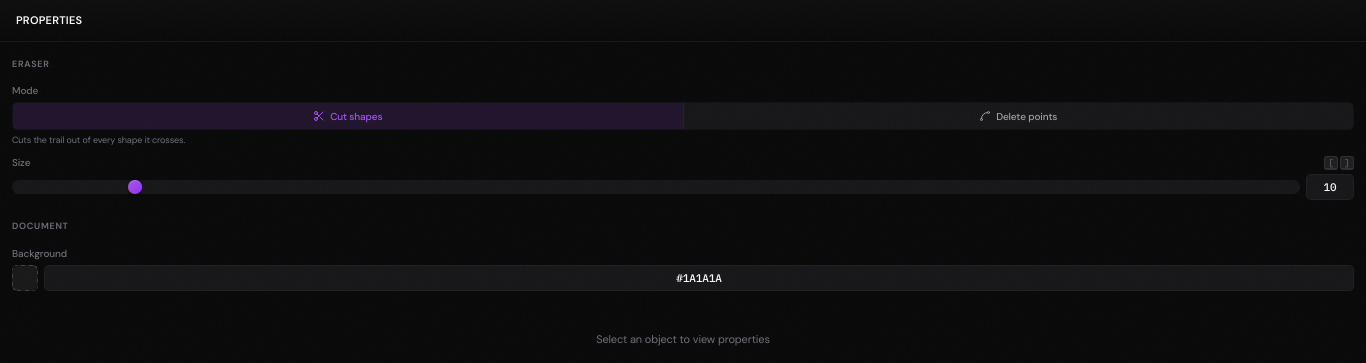
Scenario: Brush and Eraser settings › choose what the Eraser does, saying so
Expected: the button with test id "eraser-mode-stroke" reads "Cut shapes", [13,103,684,129]
Expected: the text with test id "eraser-mode-note" shows "Cuts the trail out", [12,134,185,146]
What coordinates should you click on to do the following:
click the button with test id "eraser-mode-point"
I would click on:
 (1018, 116)
Its box is [684,103,1353,129].
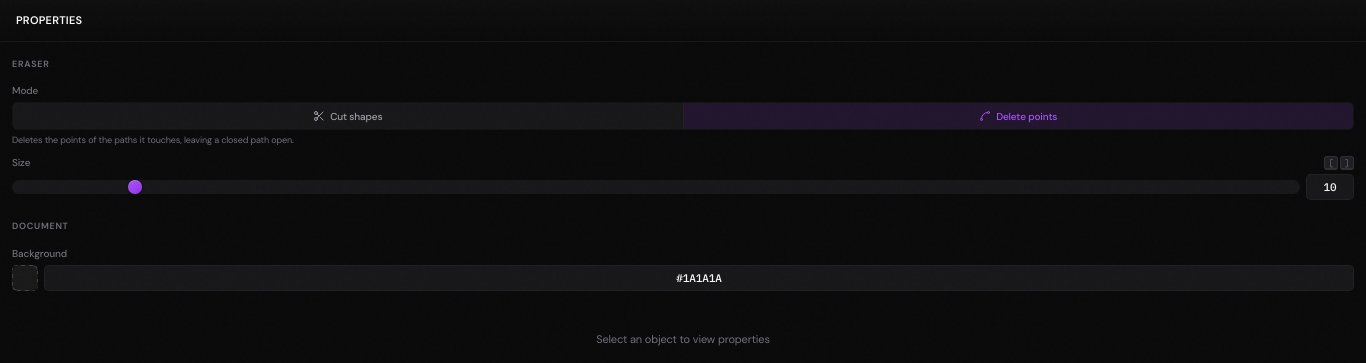
Now the text with test id "eraser-mode-note" shows "Deletes the points", box [12,134,294,146]
